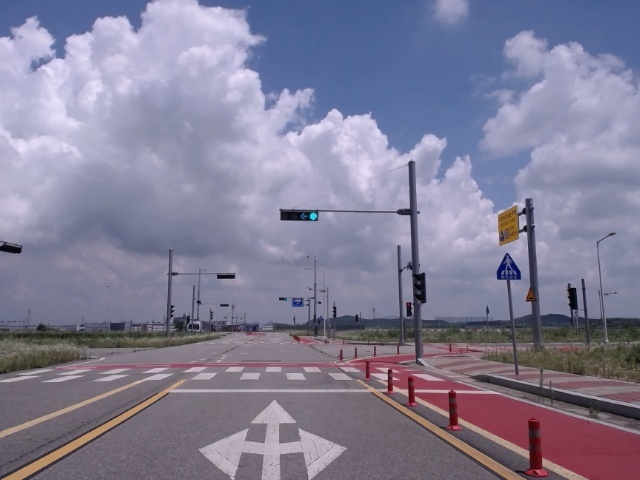all_green_4: (277, 210, 318, 220)
